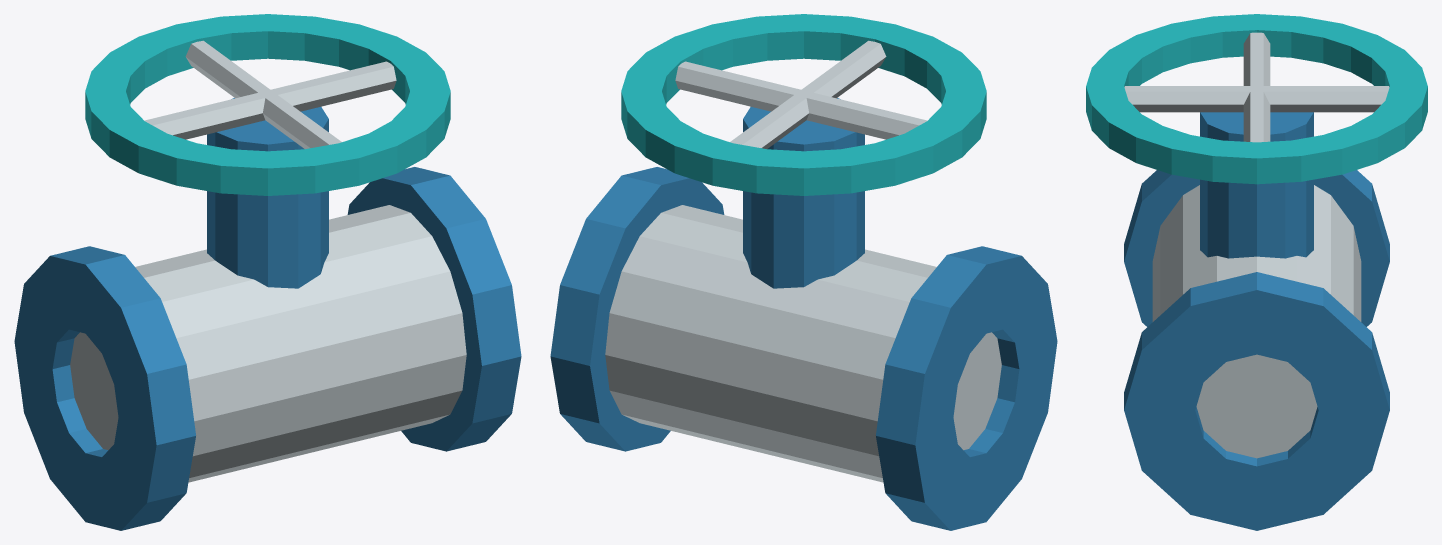
File: AQUA-018.glb
3 views of the same model, side by side, from view 1: azimuth 30°, elevation 25°; view 2: azimuth 150°, elevation 25°; view 3: azimuth 270°, elevation 25° (orthographic). The views are drawn at different scales.
Visible parts, largest first — view 1: AQUA-018; view 2: AQUA-018; view 3: AQUA-018.
Part boxes in pixels (x1=…): AQUA-018: x1=14, y1=14, x2=521, y2=530; AQUA-018: x1=550, y1=14, x2=1057, y2=530; AQUA-018: x1=1086, y1=14, x2=1427, y2=530.
Size of the model in its own units: 0.83 by 0.84 by 0.72.
